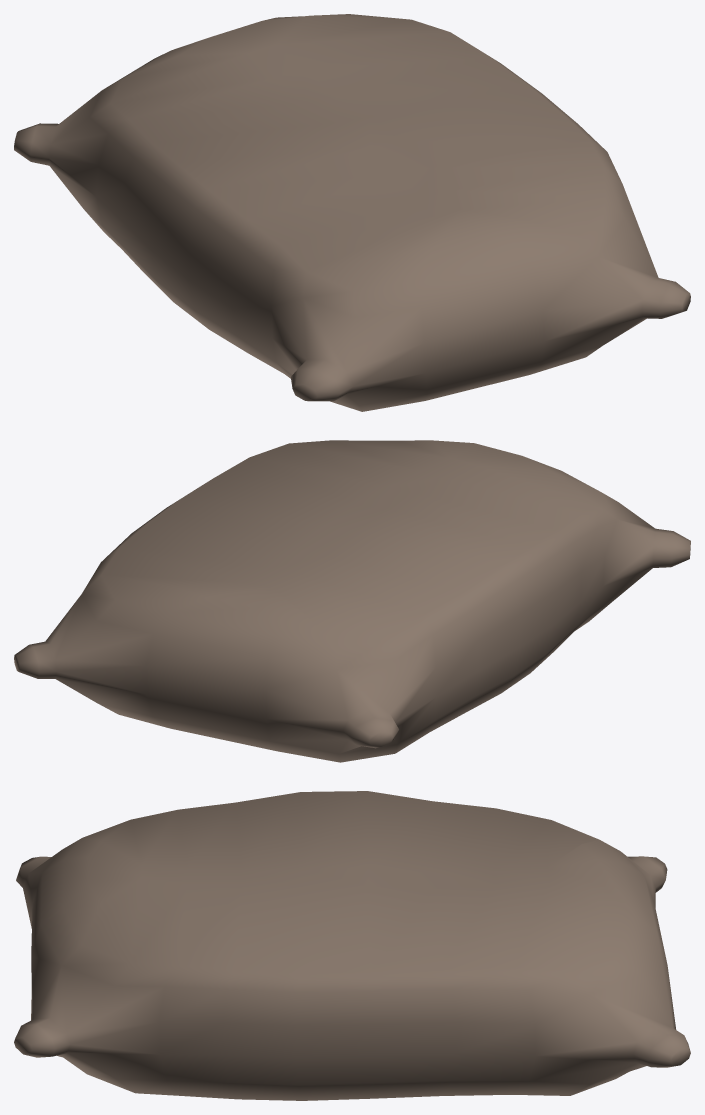
Rendered from model_sacoquadrado_01.fbx.
3 renders of one model, top to bottom at view 1: azimuth 30°, elevation 25°; view 2: azimuth 150°, elevation 25°; view 3: azimuth 270°, elevation 25°, orthographic. The views are drawn at different scales.
Parts seen in each view (by area): view 1: Plane.001; view 2: Plane.001; view 3: Plane.001.
Part boxes in pixels (<box>): Plane.001: <box>14,14,690,411</box>; Plane.001: <box>14,440,690,762</box>; Plane.001: <box>14,791,690,1100</box>.
Size of the model in its own units: 246 by 86.33 by 337.
